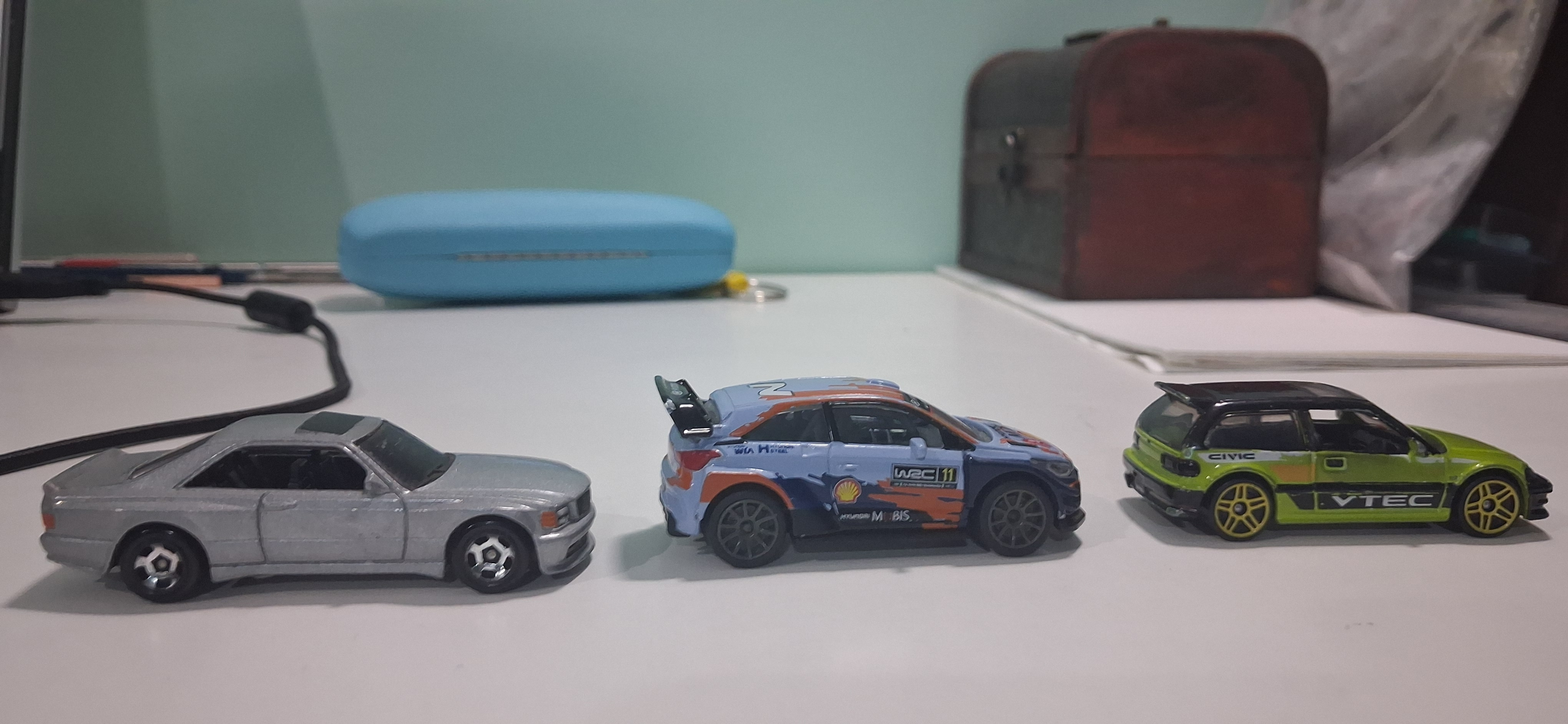Honda_Civic: (1118, 337, 1559, 572)
Hyundai_I20_WRC: (645, 357, 1110, 596)
Mercedes_Benz_560_SEC_AMG: (27, 375, 630, 616)
